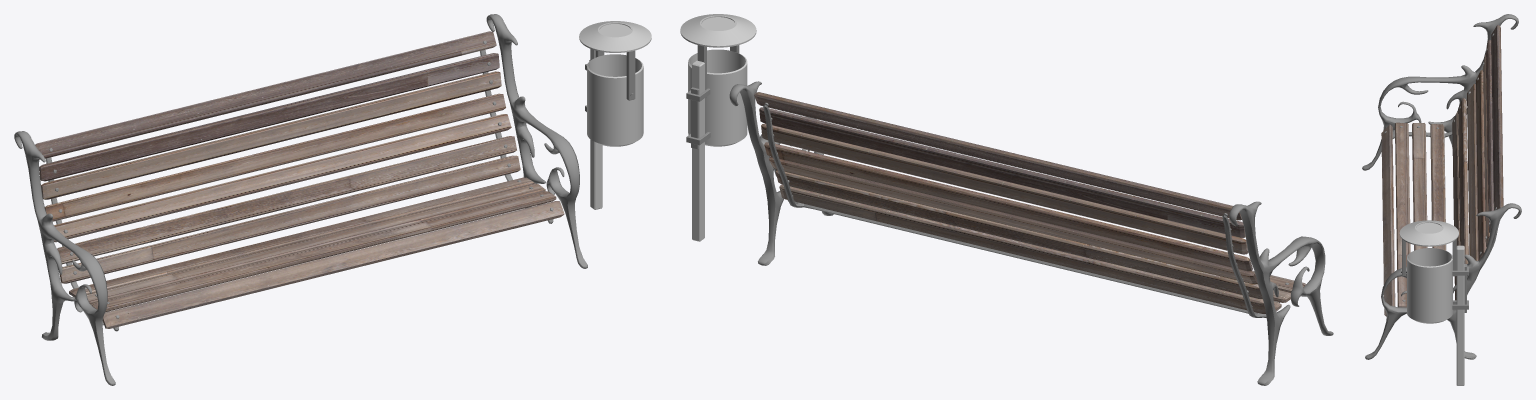
The model's file is sit.FBX.
3 views of the same model, side by side, from view 1: azimuth 30°, elevation 25°; view 2: azimuth 150°, elevation 25°; view 3: azimuth 270°, elevation 25° (orthographic). The views are drawn at different scales.
Parts seen in each view (by area): view 1: pCube9, polyToSub1, pCylinder0, pCylinder1, pCube57; view 2: pCube9, polyToSub1, pCylinder0, pCylinder1, pCube57; view 3: pCube9, polyToSub1, pCylinder0, pCylinder1, pCube57.
Boxes of the visible parts, x1,y1,x2,y2 form: pCube9: (35,31,564,328); polyToSub1: (14,14,587,385); pCylinder0: (587,54,643,146); pCylinder1: (579,21,651,52); pCube57: (590,49,602,209); pCube9: (754,92,1306,313); polyToSub1: (729,81,1333,385); pCylinder0: (688,49,747,146); pCylinder1: (680,14,756,47); pCube57: (692,60,704,241); pCube9: (1381,25,1503,316); polyToSub1: (1362,14,1521,359); pCylinder0: (1407,248,1452,323); pCylinder1: (1399,220,1458,246); pCube57: (1456,245,1464,385).
Size of the model in its own units: 3507 by 1119 by 1021.
